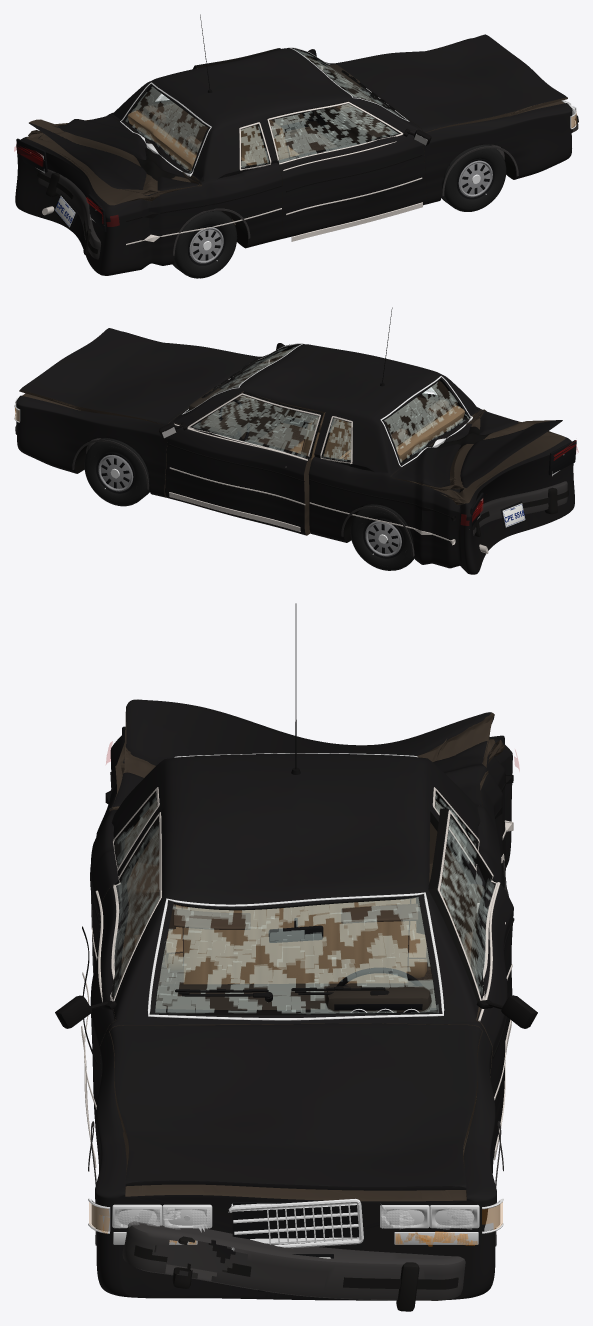
File: coupe84_rear_d1.glb
The picture shows the model from 3 angles, top to bottom: view 1: azimuth 30°, elevation 25°; view 2: azimuth 150°, elevation 25°; view 3: azimuth 270°, elevation 25°; orthographic projection. The views are drawn at different scales.
Parts seen in each view (by area): view 1: Body, Hood, Door_FR, Trunk, Interior, Glass, Glass_FR, Wheel_FR_mesh, Wheel_RR_mesh, Trim_FR, Trim, Bumper_R (+3 smaller); view 2: Body, Hood, Door_FL, Trunk, Interior, Glass, Wheel_FL_mesh, Wheel_RL_mesh, Glass_FL, Trim_FL, Trim, Bumper_R (+2 smaller); view 3: Body, Hood, Interior, Glass, Bumper_F, Trunk, Ends, Door_FL, Door_FR, Glass_FL, Trim, Trim_FL (+4 smaller).
Boxes of the visible parts, box(x1,y1,x2,y2) form: Body: box(15, 38, 572, 275); Hood: box(332, 34, 567, 132); Door_FR: box(266, 101, 426, 238); Trunk: box(29, 115, 200, 195); Interior: box(127, 64, 395, 170); Glass: box(120, 47, 409, 176); Glass_FR: box(267, 101, 399, 164); Wheel_FR_mesh: box(441, 144, 506, 211); Wheel_RR_mesh: box(172, 211, 237, 278); Trim_FR: box(267, 102, 431, 241); Trim: box(126, 14, 518, 255); Bumper_R: box(37, 169, 100, 259); Body: box(16, 331, 574, 574); Hood: box(19, 328, 259, 425); Door_FL: box(165, 391, 323, 535); Trunk: box(391, 410, 562, 492); Interior: box(189, 364, 464, 461); Glass: box(182, 343, 472, 466); Wheel_FL_mesh: box(84, 438, 149, 506); Wheel_RL_mesh: box(350, 504, 414, 570); Glass_FL: box(191, 393, 321, 461); Trim_FL: box(159, 393, 320, 531); Trim: box(72, 307, 455, 556); Bumper_R: box(472, 481, 568, 536); Body: box(90, 733, 512, 1300); Hood: box(110, 1023, 482, 1190); Interior: box(155, 898, 436, 1012); Glass: box(116, 753, 475, 1020); Bumper_F: box(122, 1221, 465, 1311); Trunk: box(112, 699, 494, 808); Ends: box(88, 726, 504, 1291); Door_FL: box(428, 808, 513, 1159); Door_FR: box(90, 810, 163, 1154); Glass_FL: box(436, 817, 497, 994); Trim: box(88, 603, 513, 1246); Trim_FL: box(437, 810, 537, 1160).
Size of the model in its own units: 4.95 by 2.15 by 2.13.
34 materials, 5 textured.
